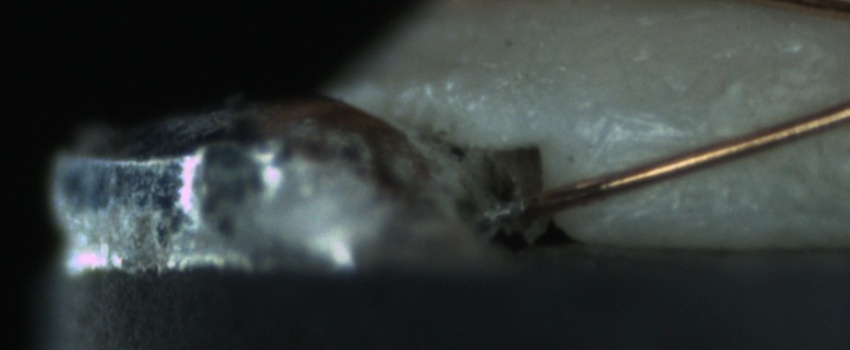DL: (597, 110, 740, 169)
